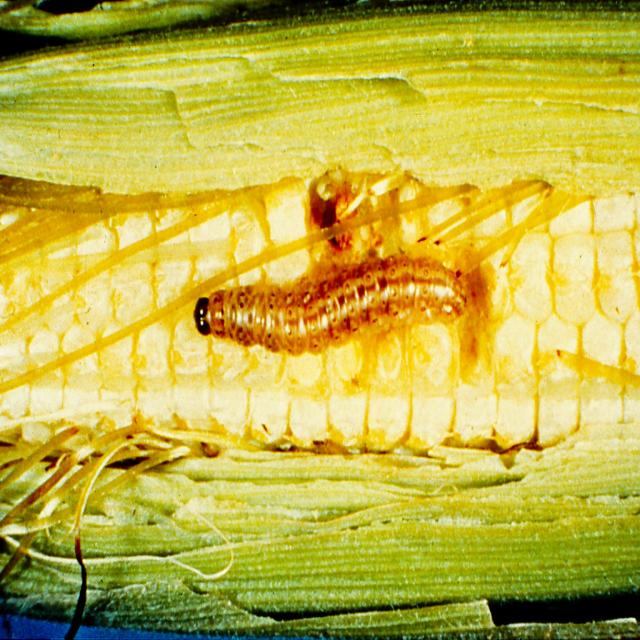cornborer-Larva-: (178, 248, 480, 380)
